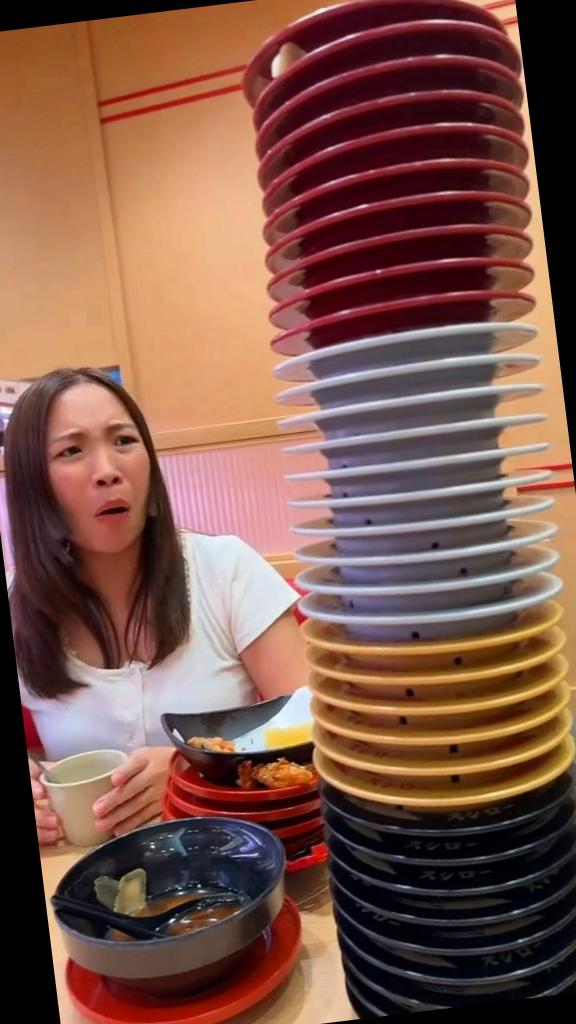Janback: (360, 875, 576, 933), (381, 914, 576, 970), (371, 821, 576, 871), (373, 854, 564, 902), (374, 794, 576, 839), (389, 973, 576, 1015), (395, 952, 575, 992)
Jangold: (344, 648, 562, 704), (364, 710, 560, 761), (360, 684, 553, 728), (367, 742, 554, 784), (365, 629, 545, 671), (379, 767, 550, 809)
Janred: (252, 12, 520, 74), (280, 45, 523, 106), (310, 177, 522, 242), (316, 212, 540, 273), (291, 82, 529, 139), (298, 113, 530, 171), (322, 250, 537, 306), (332, 282, 544, 338), (235, 0, 509, 42), (306, 152, 516, 204)
Janwhite: (299, 316, 551, 374), (318, 408, 552, 466), (313, 438, 540, 494), (340, 556, 572, 610), (308, 380, 554, 430), (327, 498, 553, 552), (320, 472, 552, 524), (307, 350, 560, 397), (335, 534, 554, 580), (353, 596, 517, 644)
